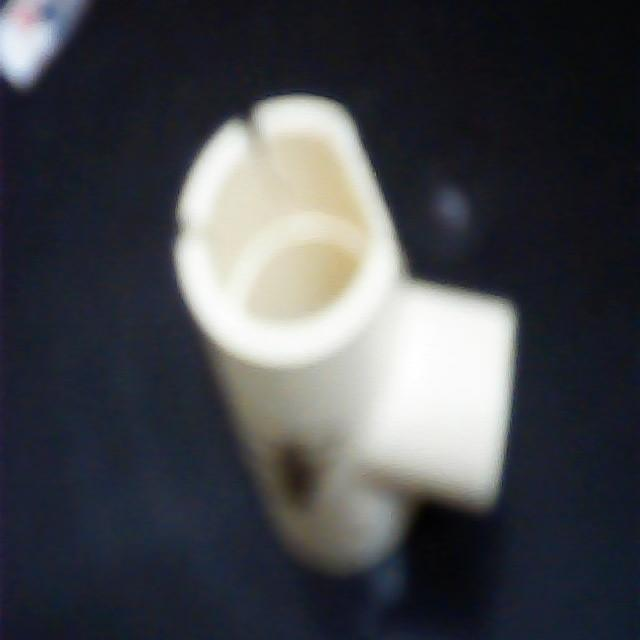Defective: (230, 109, 272, 148), (172, 217, 188, 247)
T Joint: (173, 94, 519, 582)
